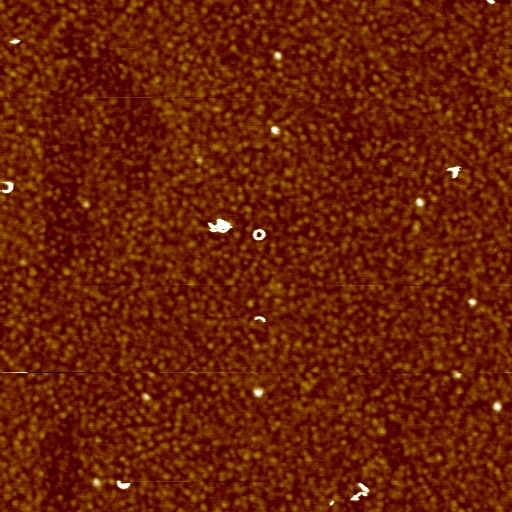-1: (209, 218, 234, 239), (347, 491, 372, 503), (356, 481, 374, 494), (467, 296, 479, 308), (493, 399, 503, 411), (269, 126, 281, 136), (272, 50, 284, 60), (7, 39, 20, 48), (254, 388, 265, 398), (415, 198, 426, 208), (487, 0, 498, 6)
1/4: (116, 479, 133, 491), (252, 314, 268, 325)
2/4: (447, 165, 461, 181)
3/4: (0, 179, 15, 199)
4/4: (251, 228, 268, 242)
